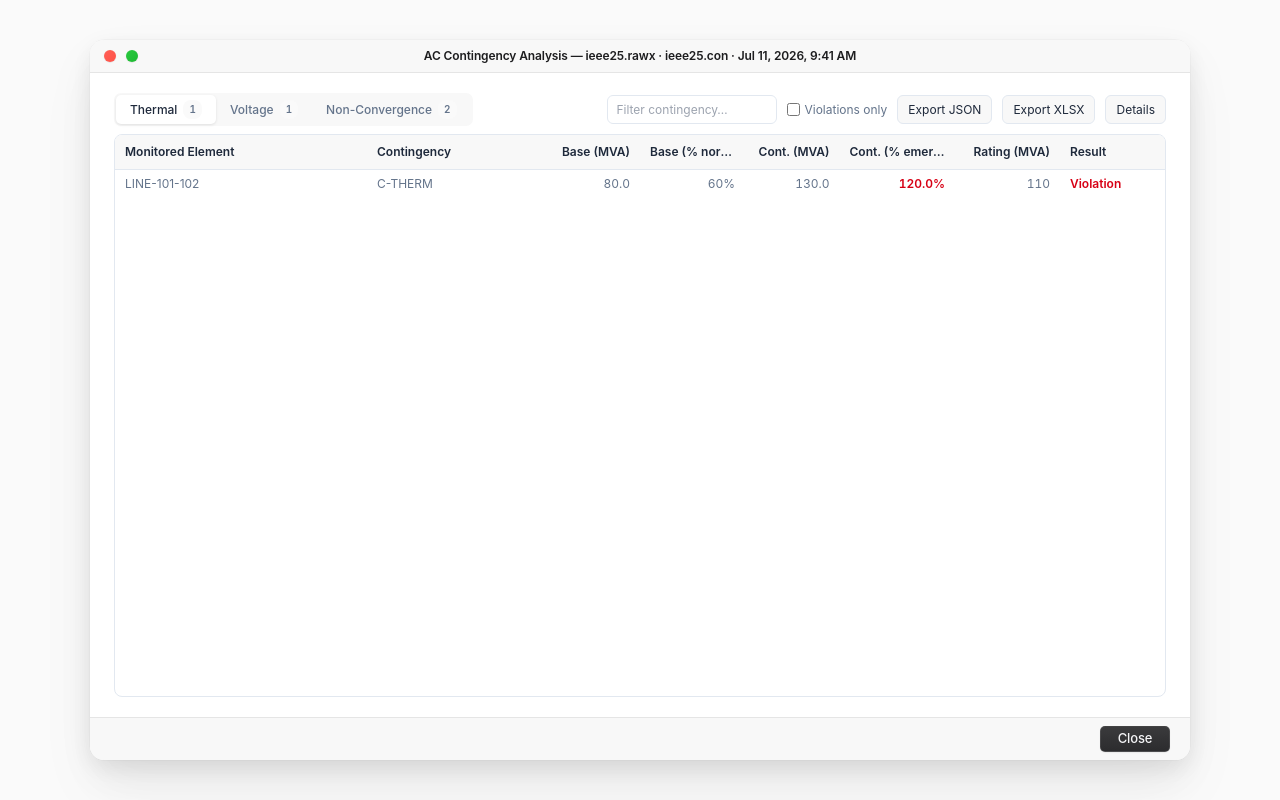
Test: the Status tab lists non-converged and islanded contingencies
Expected: the text "Thermal" is shown, [130,102,177,117]
Step 1. Click the tab "Non-Convergence 2" → (391, 110), box [312,95,471,124]
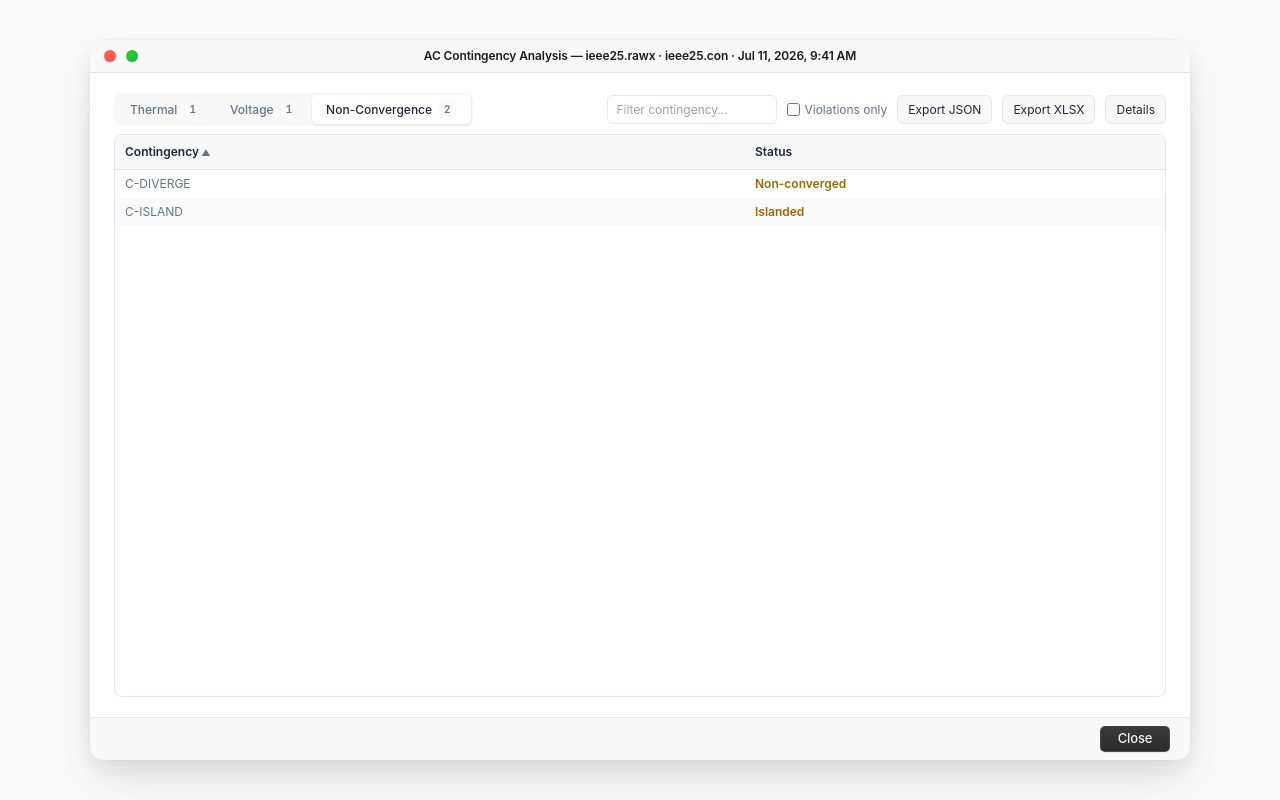
Now the text "C-ISLAND" is shown, box [115,198,745,226]
Now the text "C-DIVERGE" is shown, box [115,170,745,198]
